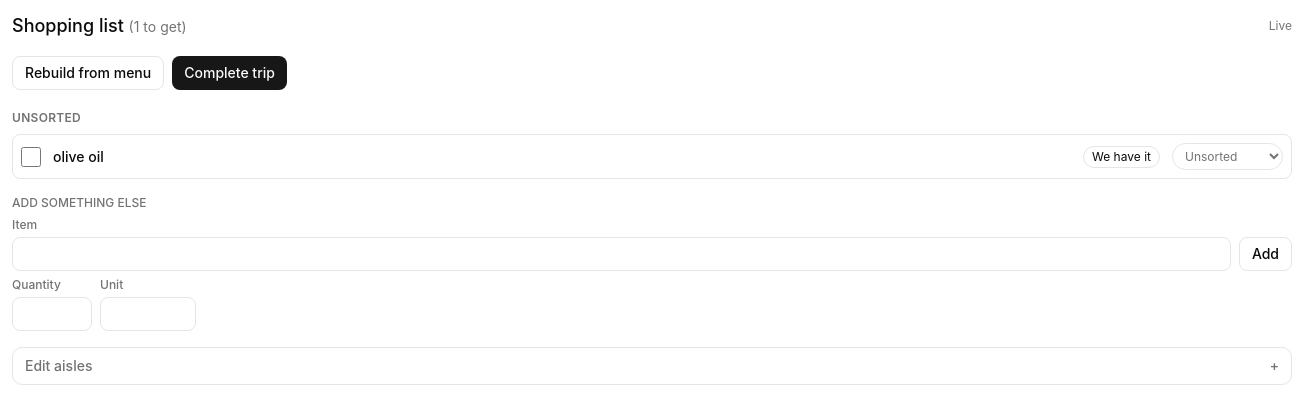
Test: GroceryList — we have it › removes the item on one tap, optimistically
Click the button "We have it": (1122, 156) [1083,146,1160,168]
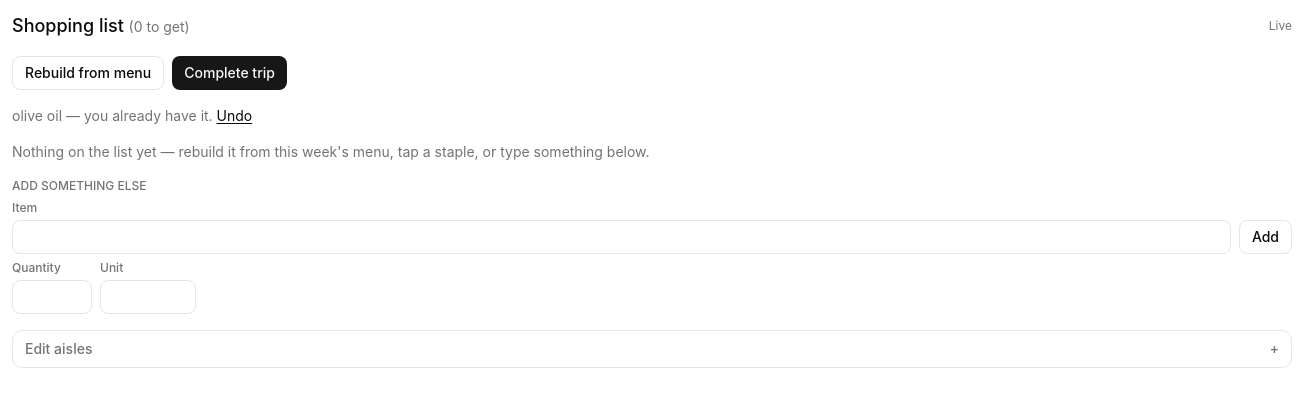
Check: the list item with test id "grocery-item" is gone
Check: the heading "Shopping list (0 to get)" is shown, box [12,12,190,40]
